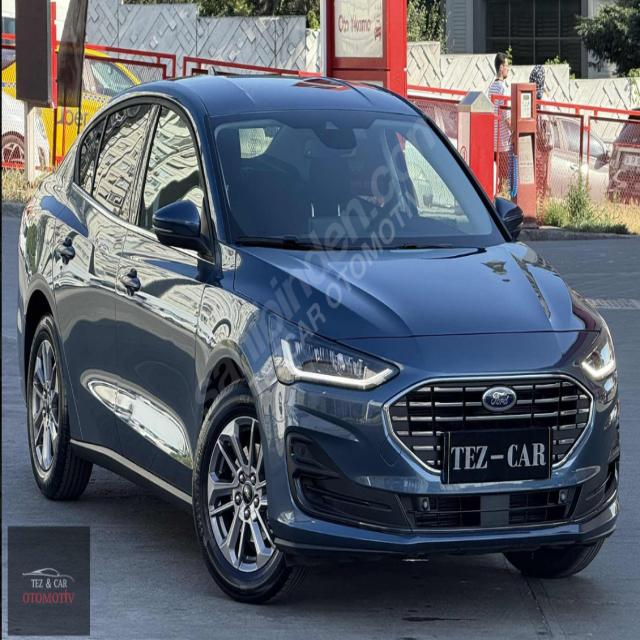ford: (480, 380, 520, 416)
